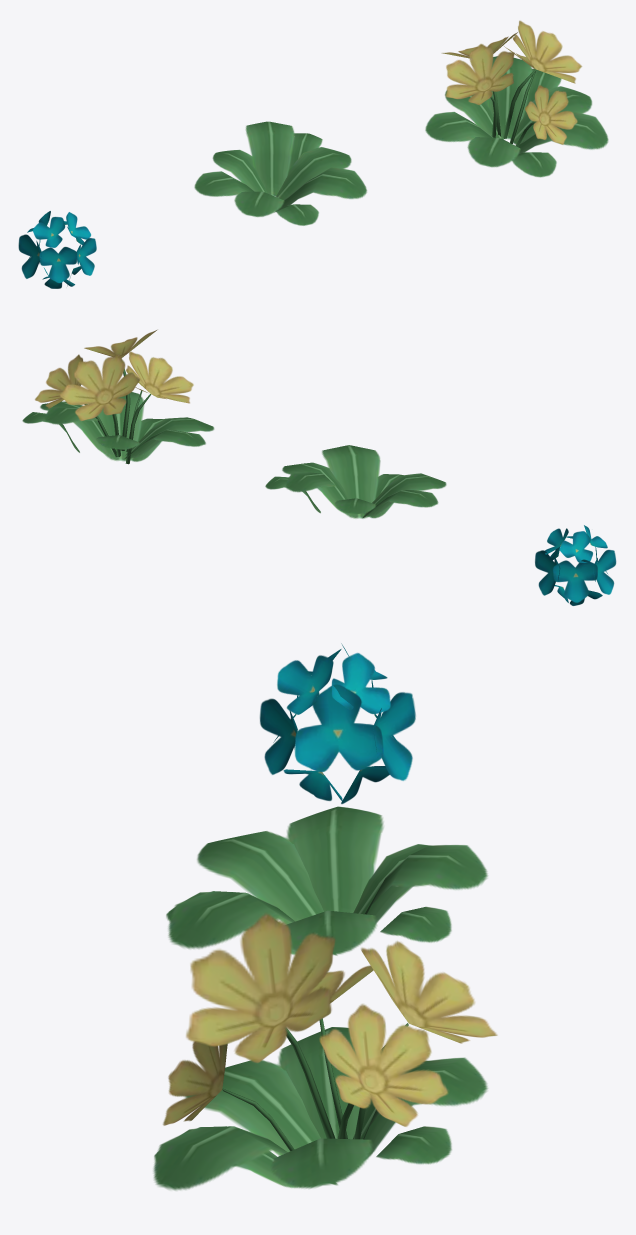
File: flowerbush.glb
The picture shows the model from 3 angles, top to bottom: view 1: azimuth 30°, elevation 25°; view 2: azimuth 150°, elevation 25°; view 3: azimuth 270°, elevation 25°; orthographic projection. The views are drawn at different scales.
Parts seen in each view (by area): view 1: Petals_1; view 2: Petals_1; view 3: Petals_1.
Part boxes in pixels (x1,y1,x2,y2): Petals_1: [18, 20, 608, 288]; Petals_1: [22, 329, 616, 605]; Petals_1: [153, 643, 497, 1190].
Bounding box in the file's own units: 5 × 1.34 × 1.53.
Materials: 1 (1 with a texture image).
